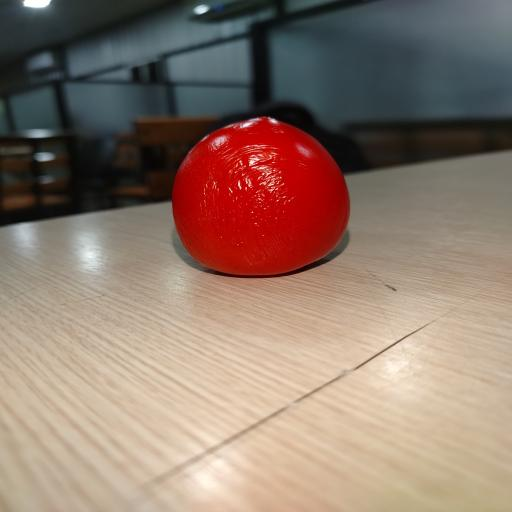spoiled: (173, 117, 350, 275)
